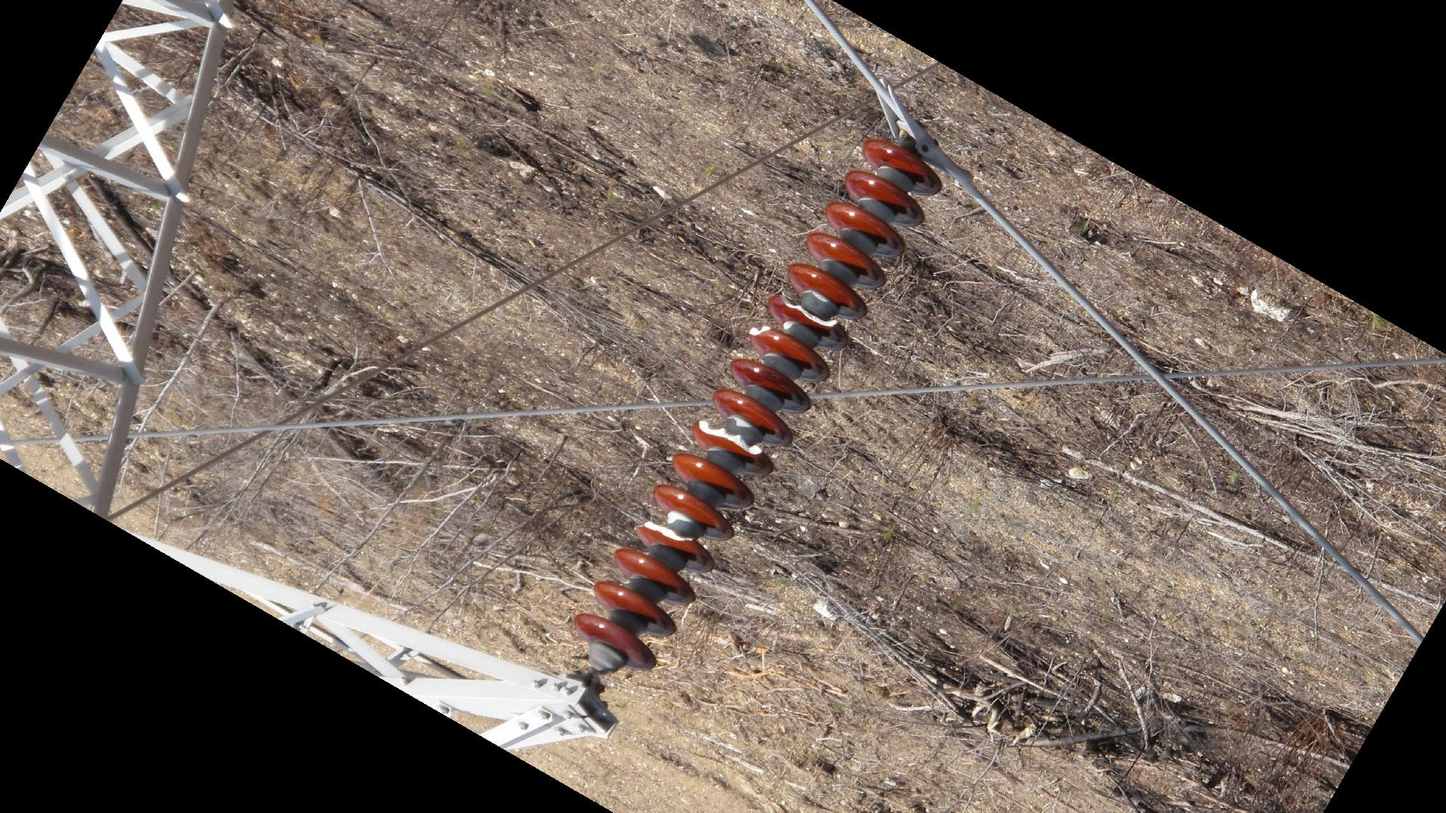insulator: (569, 131, 948, 679)
insulator_breakage: (696, 417, 767, 461), (775, 289, 841, 331), (631, 517, 700, 550), (746, 321, 776, 341)
